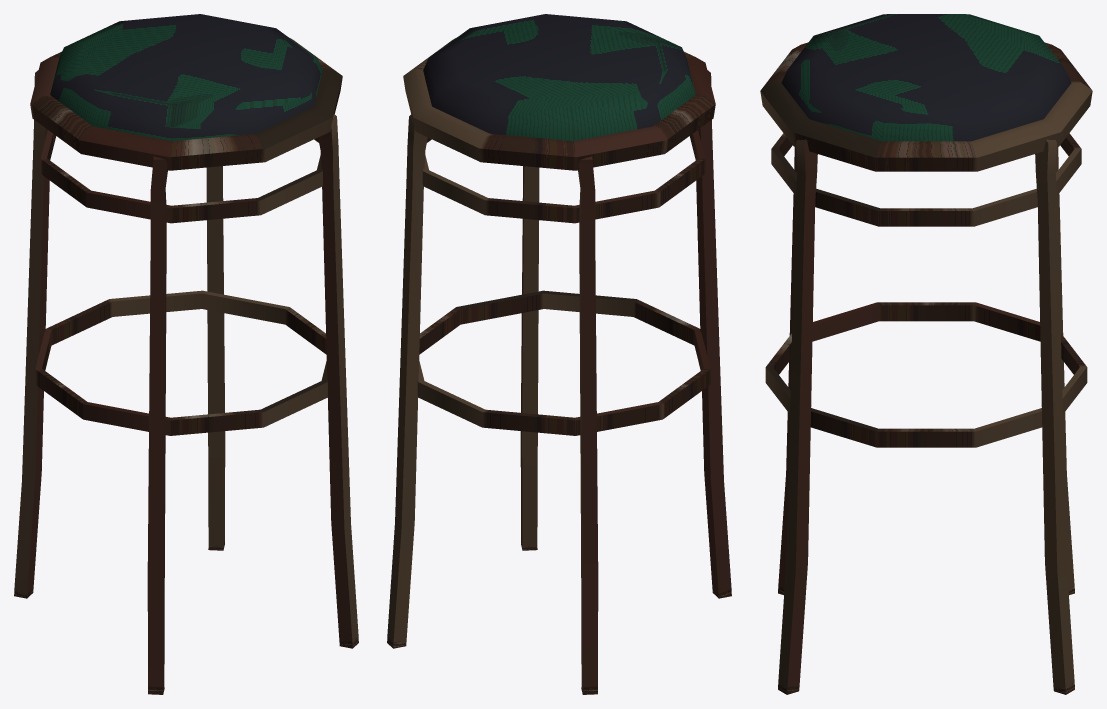
File: cand_stool_quat-w.glb
The picture shows the model from 3 angles, left to right: view 1: azimuth 30°, elevation 25°; view 2: azimuth 150°, elevation 25°; view 3: azimuth 270°, elevation 25°; orthographic projection. The views are drawn at different scales.
Visible parts, largest first — view 1: Stool; view 2: Stool; view 3: Stool.
Part boxes in pixels (x1,y1,x2,y2): Stool: (14,14,358,694); Stool: (387,14,731,694); Stool: (760,14,1092,694).
Bounding box in the file's own units: 0.6753 × 1.37 × 0.7101.
2 materials, 2 textured.
